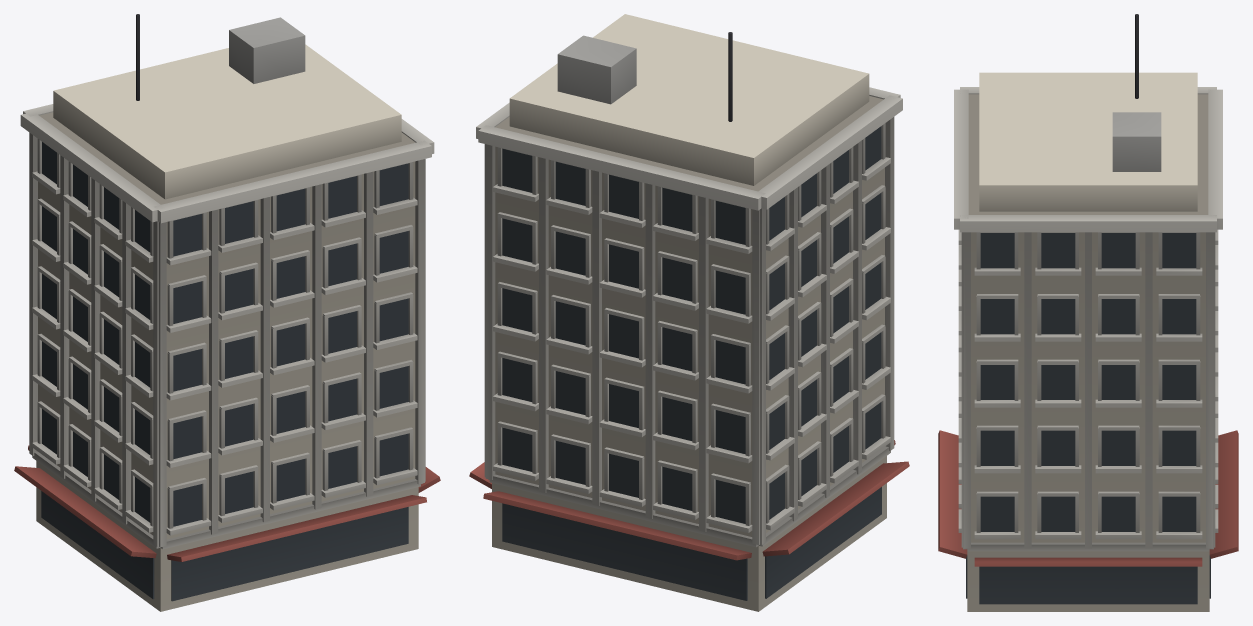
File: block_modern_0.glb
The picture shows the model from 3 angles, left to right: view 1: azimuth 30°, elevation 25°; view 2: azimuth 150°, elevation 25°; view 3: azimuth 270°, elevation 25°; orthographic projection. The views are drawn at different scales.
Parts seen in each view (by area): view 1: Body_Detail, Body_Wall; view 2: Body_Detail, Body_Wall; view 3: Body_Detail, Body_Wall.
Boxes of the visible parts, x1,y1,x2,y2 form: Body_Detail: (14, 14, 440, 601); Body_Wall: (36, 44, 418, 611); Body_Detail: (469, 32, 909, 600); Body_Wall: (492, 14, 886, 611); Body_Detail: (938, 14, 1238, 604); Body_Wall: (967, 72, 1209, 611).
Size of the model in its own units: 1.44 by 2.3 by 1.24.
